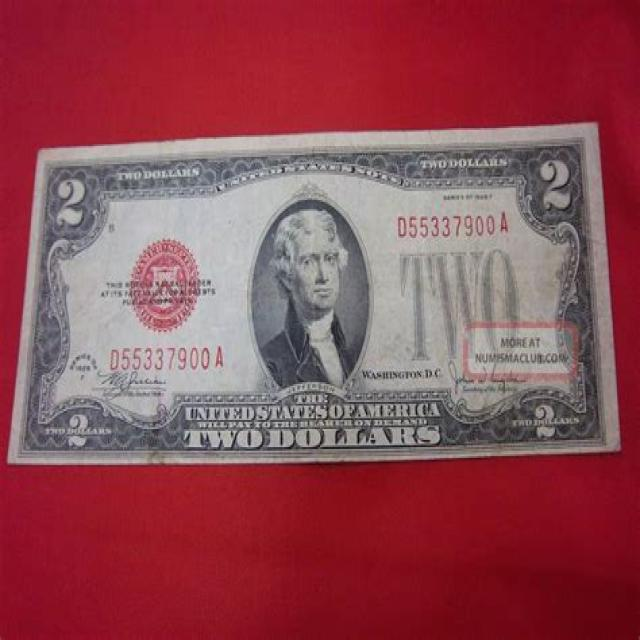Two: (15, 133, 621, 460)
